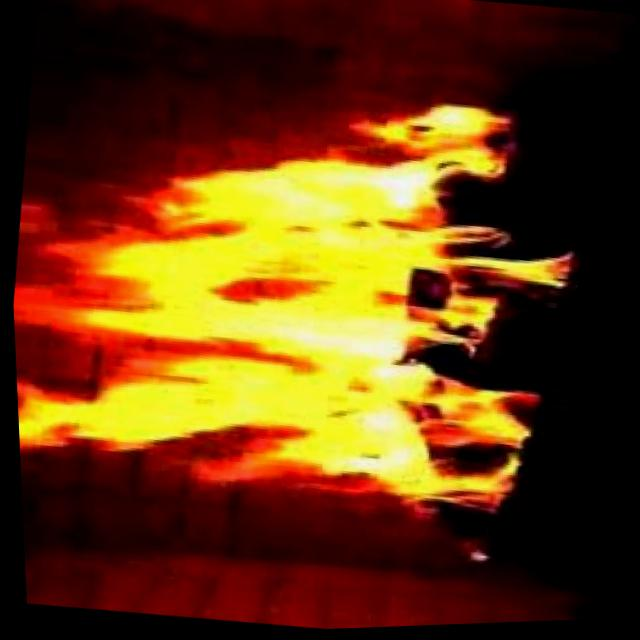helmet: (2, 45, 609, 579)
